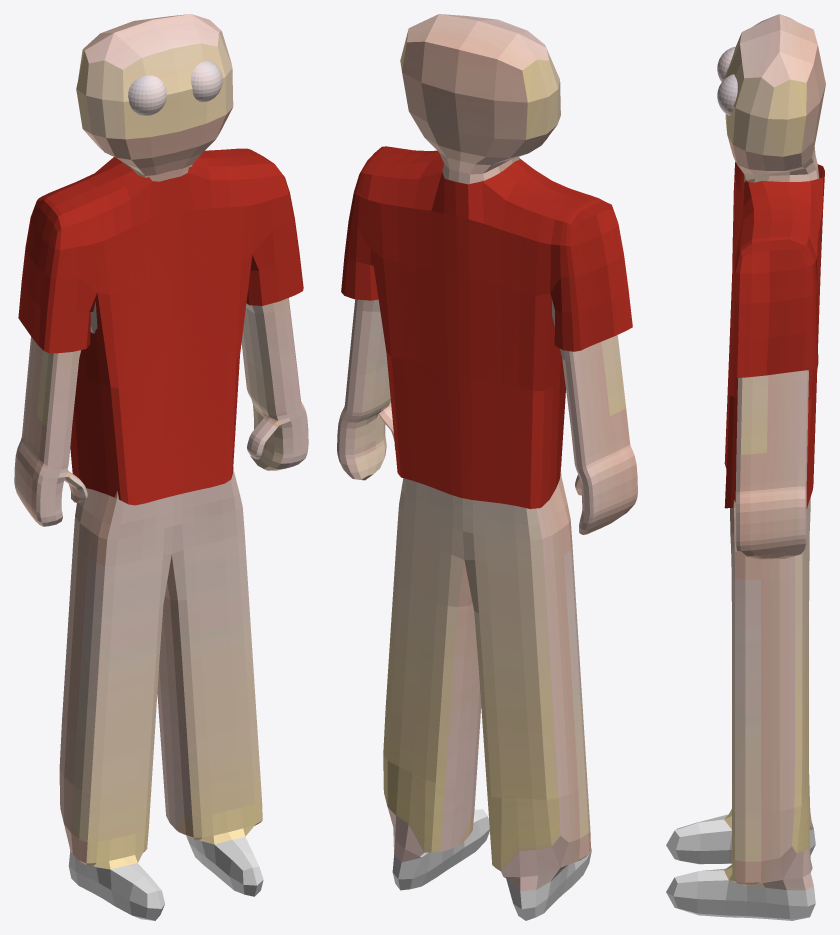
The model's file is Character.fbx.
3 renders of one model, left to right at view 1: azimuth 30°, elevation 25°; view 2: azimuth 150°, elevation 25°; view 3: azimuth 270°, elevation 25°, orthographic. The views are drawn at different scales.
Parts seen in each view (by area): view 1: Cube.003, Cube.005, Sphere; view 2: Cube.003, Cube.005; view 3: Cube.003, Cube.005, Sphere.
Boxes of the visible parts, x1,y1,x2,y2 form: Cube.003: (14, 14, 308, 920); Cube.005: (18, 148, 303, 505); Sphere: (128, 60, 222, 115); Cube.003: (337, 14, 637, 920); Cube.005: (341, 146, 632, 508); Cube.003: (666, 14, 825, 920); Cube.005: (724, 161, 824, 509); Sphere: (717, 46, 737, 115).
Bounding box in the file's own units: 201 × 607 × 102.
4 materials, 3 textured.
